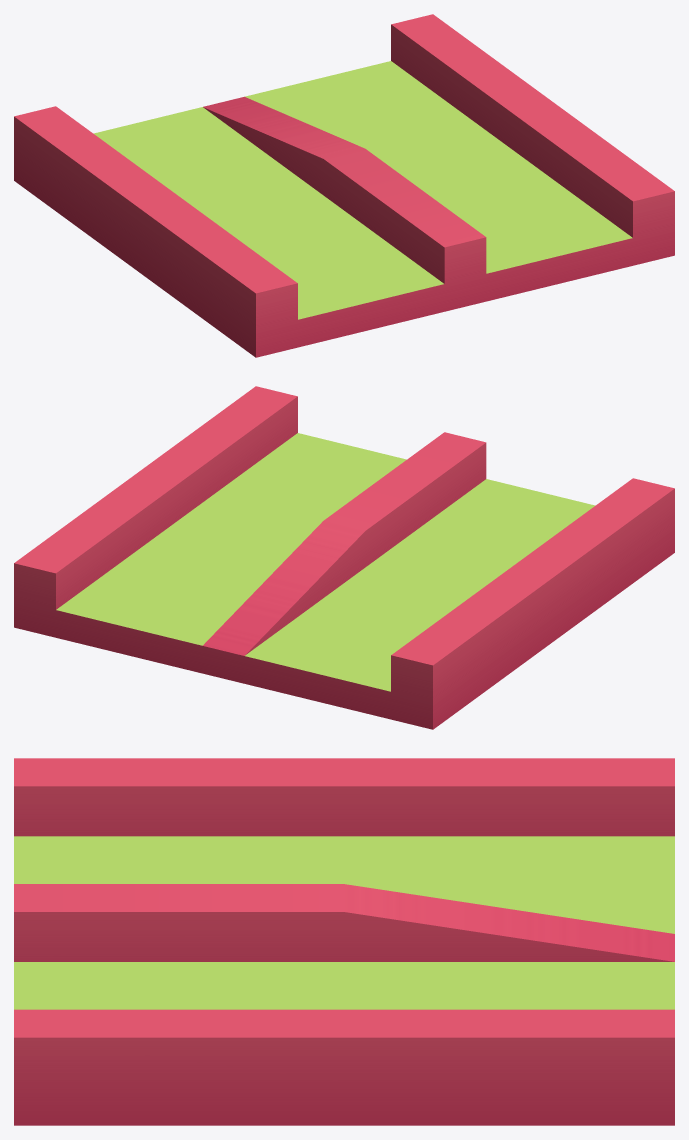
File: split-start.gltf
3 renders of one model, top to bottom at view 1: azimuth 30°, elevation 25°; view 2: azimuth 150°, elevation 25°; view 3: azimuth 270°, elevation 25°, orthographic. The views are drawn at different scales.
Parts seen in each view (by area): view 1: split-start; view 2: split-start; view 3: split-start.
Boxes of the visible parts, x1,y1,x2,y2 form: split-start: (14, 14, 674, 357); split-start: (14, 386, 674, 729); split-start: (14, 758, 674, 1125).
Size of the model in its own units: 0.9999 by 0.1467 by 0.9999.
1 material, 1 textured.
